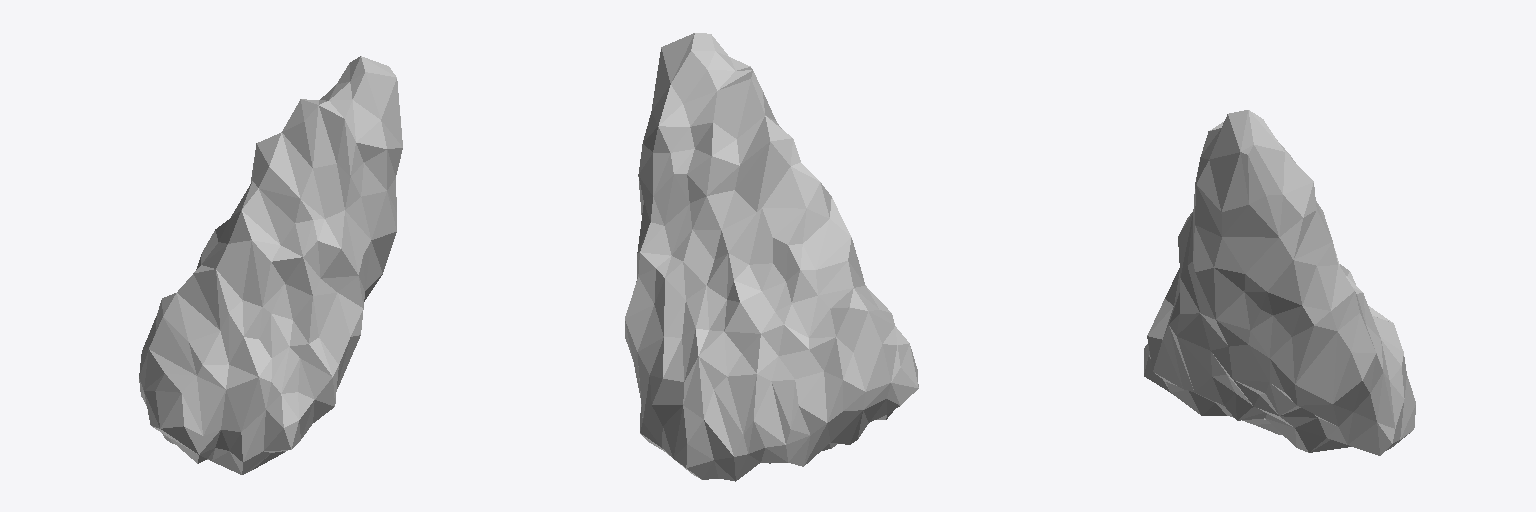
File: rock_007.obj
The picture shows the model from 3 angles: view 1: azimuth 30°, elevation 25°; view 2: azimuth 150°, elevation 25°; view 3: azimuth 270°, elevation 25°; orthographic projection.
Visible parts, largest first — view 1: rock.010; view 2: rock.010; view 3: rock.010.
Boxes of the visible parts, box(x1,y1,x2,y2) form: rock.010: box(139, 56, 402, 474); rock.010: box(625, 33, 918, 481); rock.010: box(1144, 110, 1415, 455).
Size of the model in its own units: 4.72 by 6.94 by 4.52.